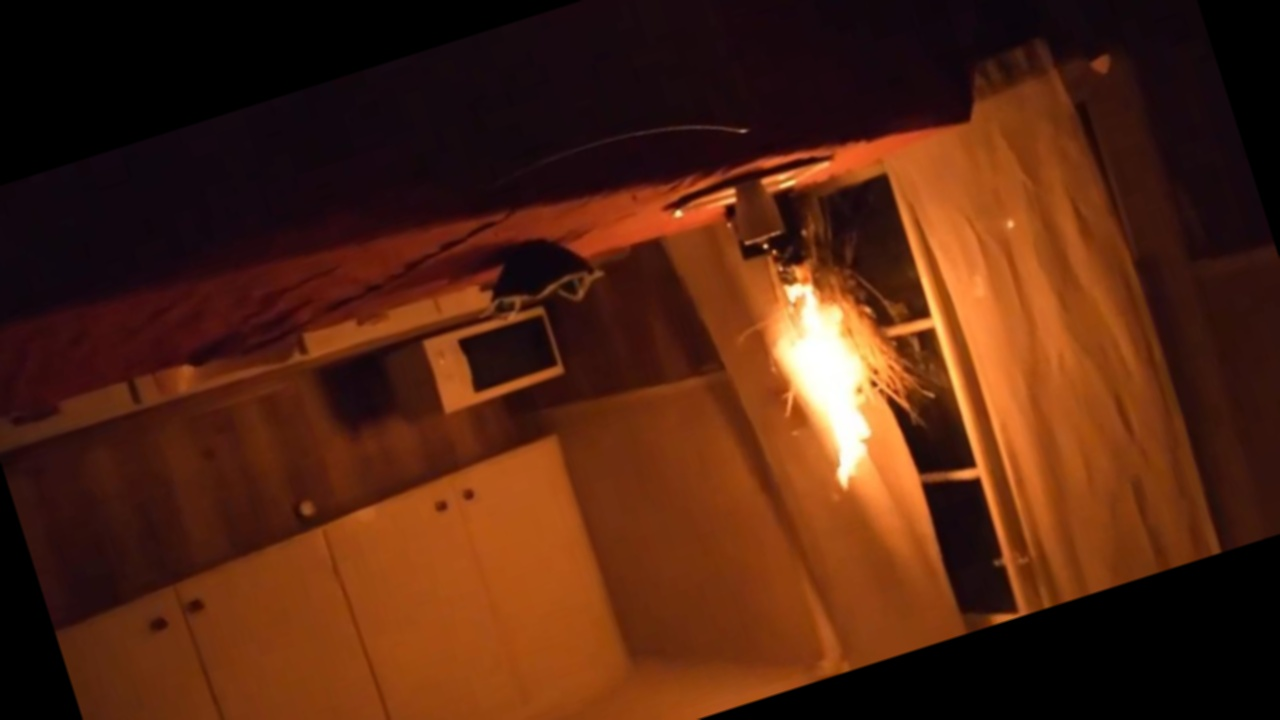fire: (678, 198, 951, 539)
